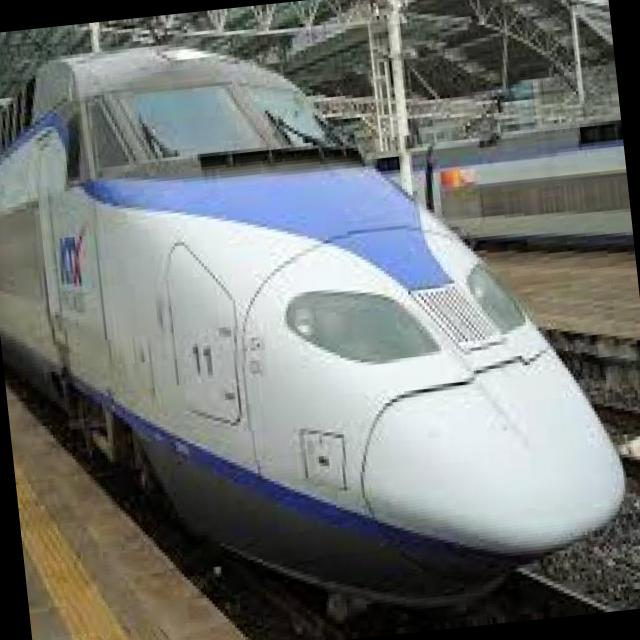trains: (0, 46, 627, 613)
